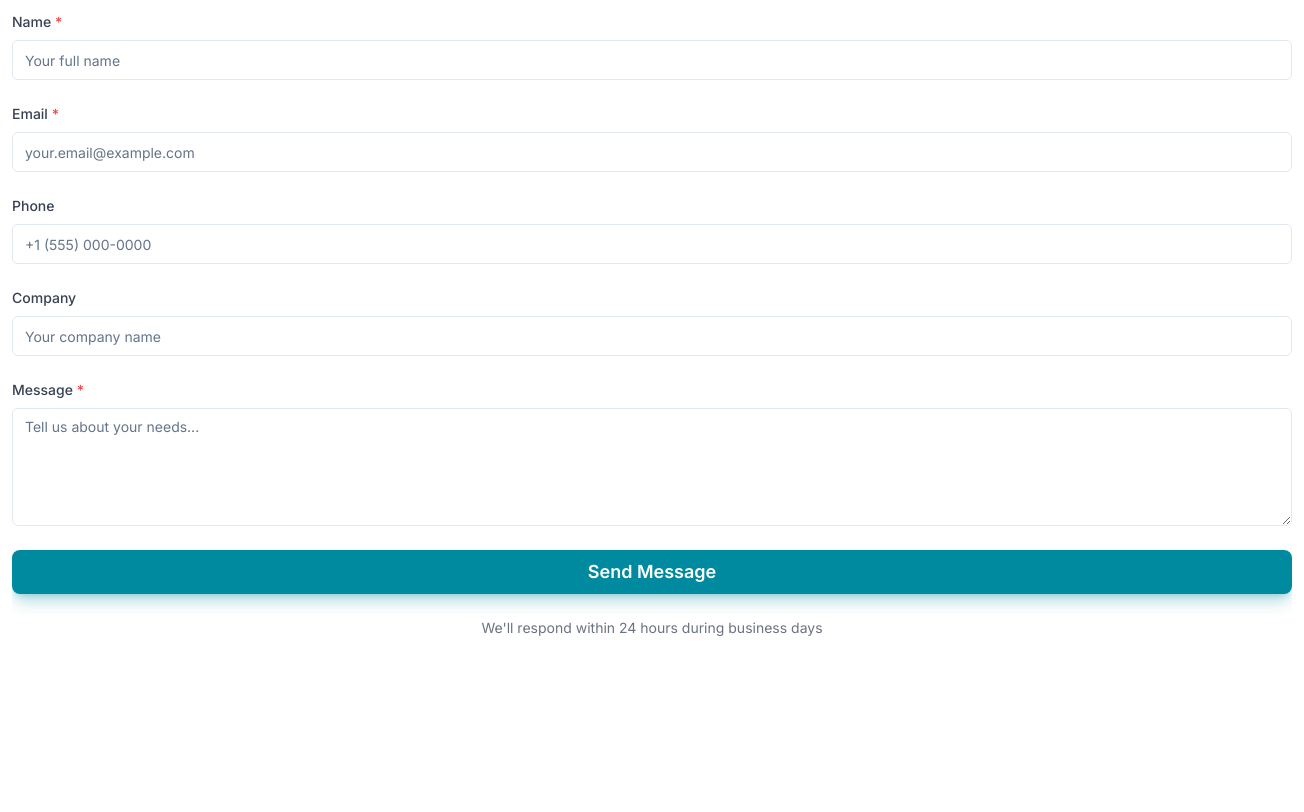
Test: ContactForm › submits form successfully with valid data
The width and height of the screenshot is (1304, 812).
Step 1. Type "John Doe" into the field labelled "Name *" → (652, 60), box [12,40,1292,80]
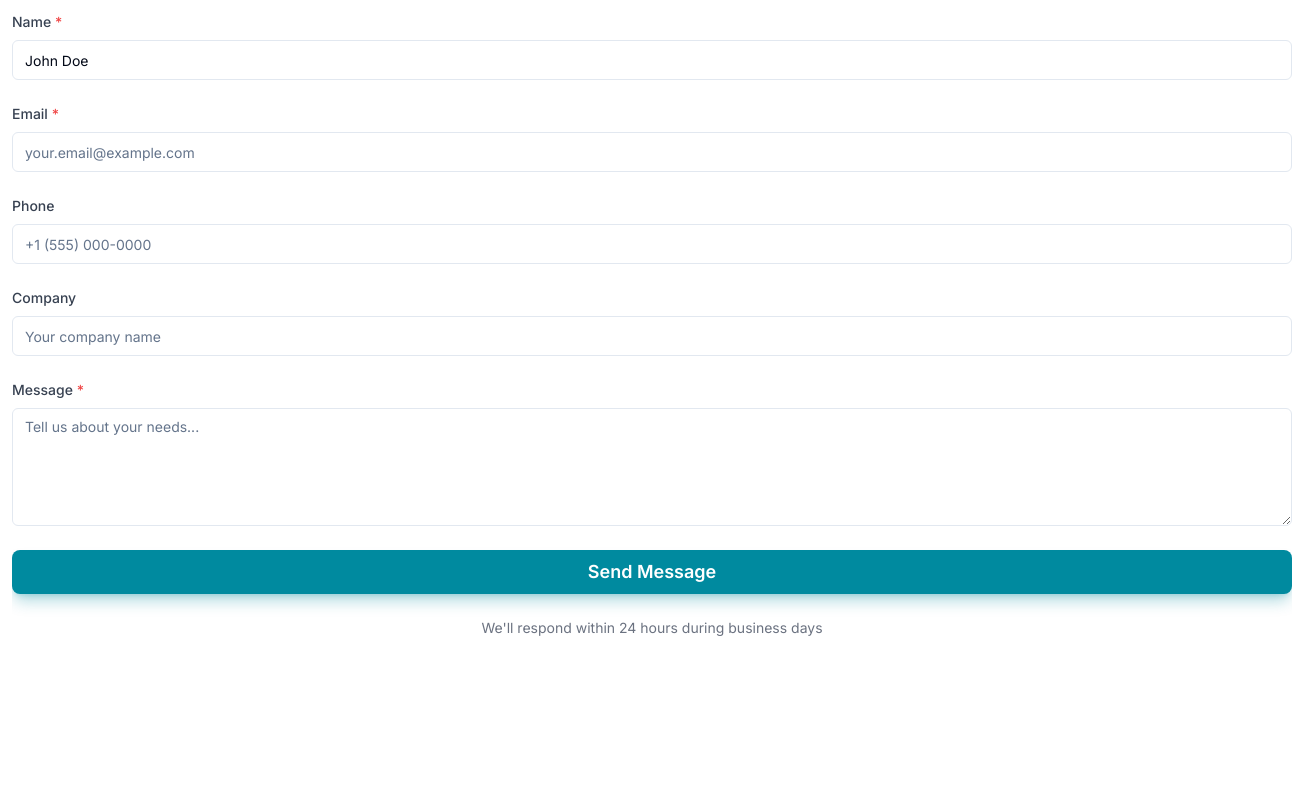
Step 2. Type "john@example.com" into the field labelled "Email *" → (652, 152), box [12,132,1292,172]
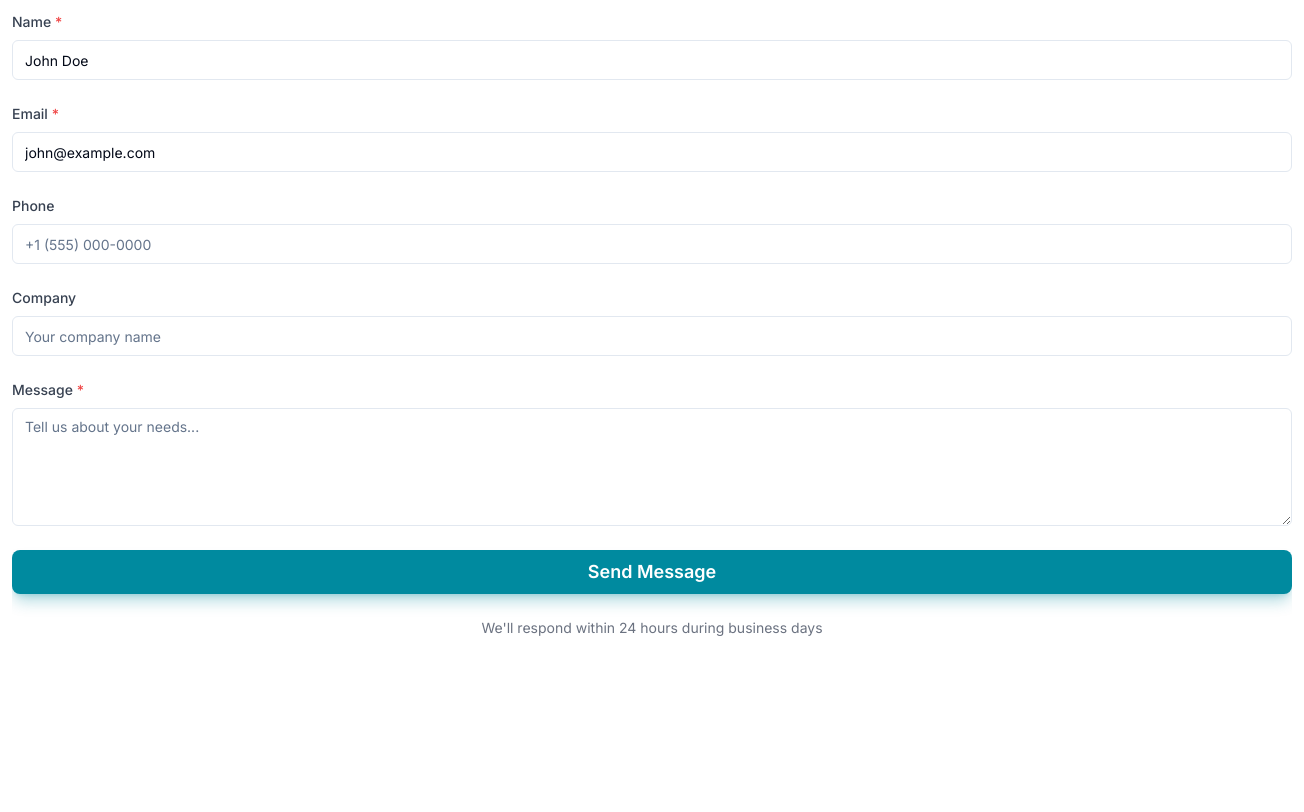
Step 3. Type "This is a test message with enough characters." into the text box labelled "Message *" → (652, 467), box [12,408,1292,526]
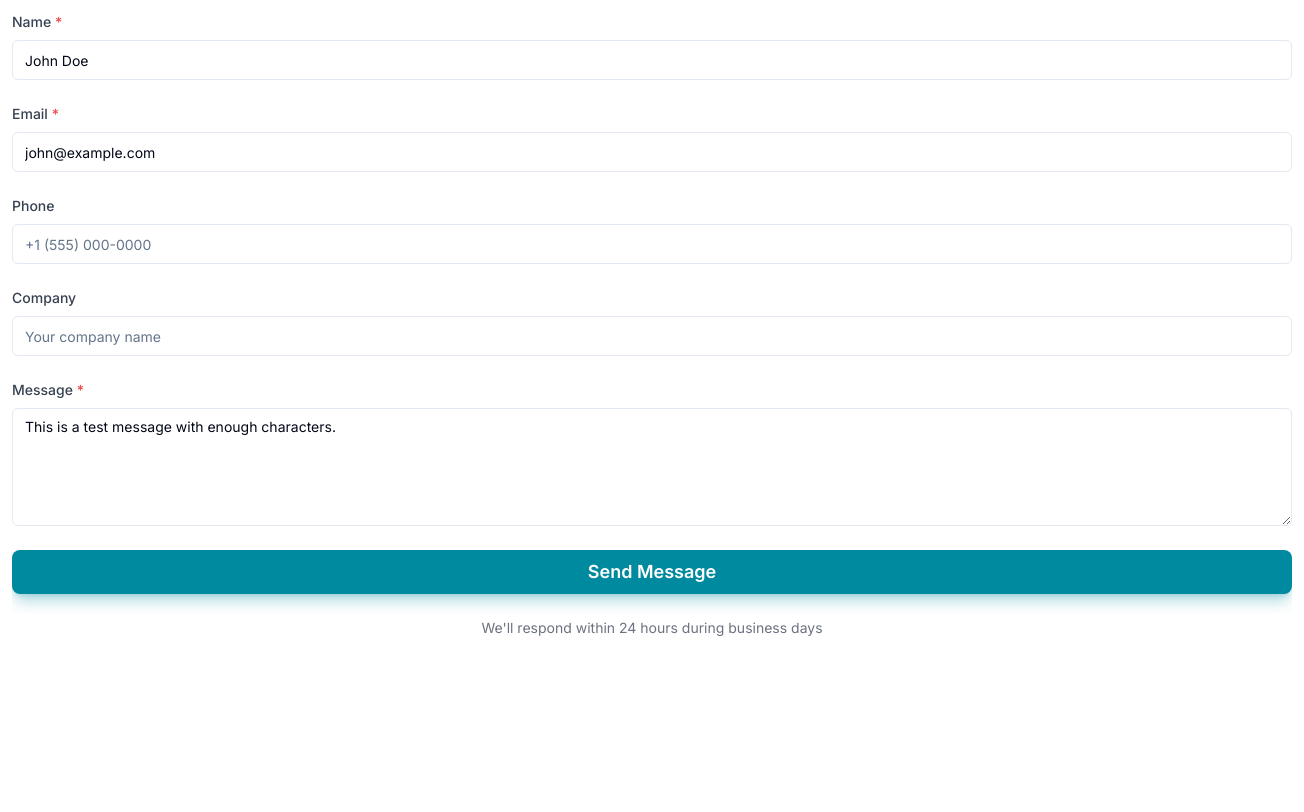
Step 4. Click the button "Send Message" → (652, 572), box [12,550,1292,594]
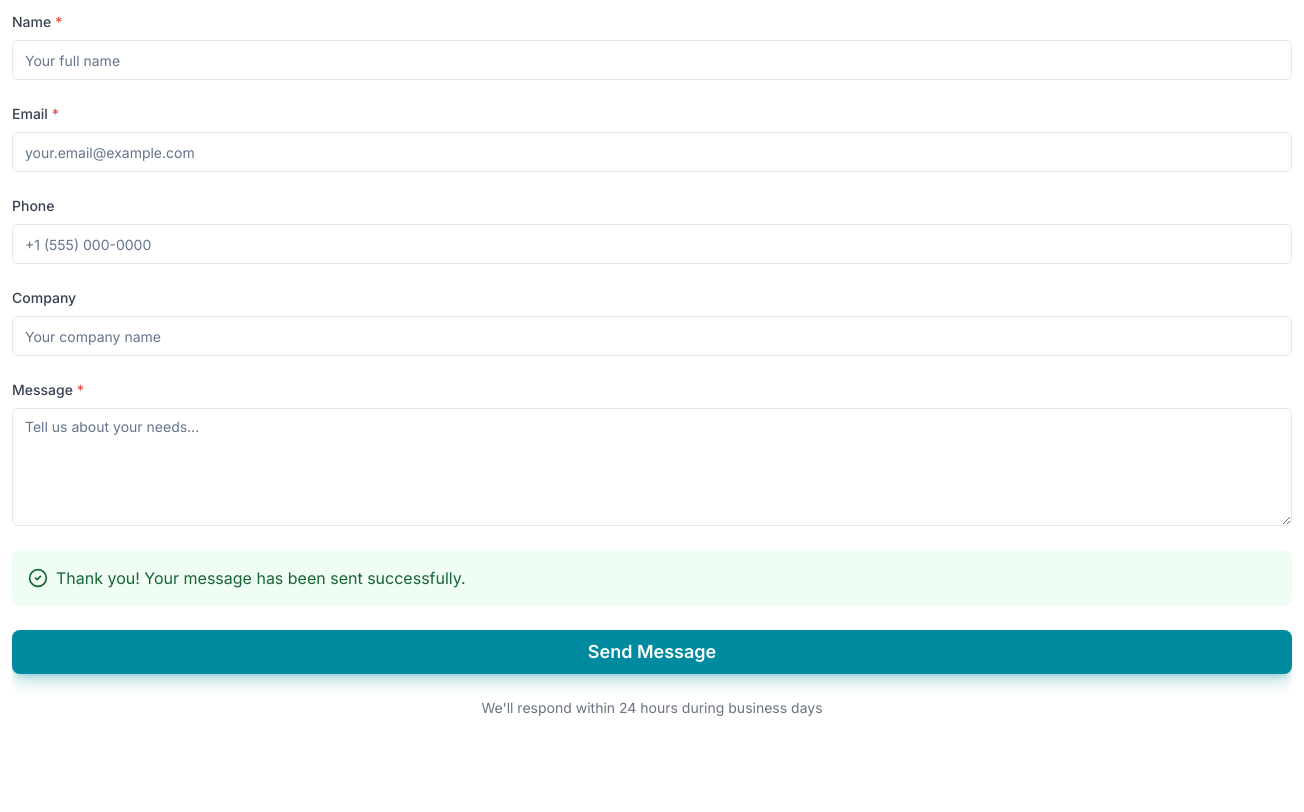
Now the text "Thank you! Your message has been sent successfully." is shown, box [56,566,466,590]
